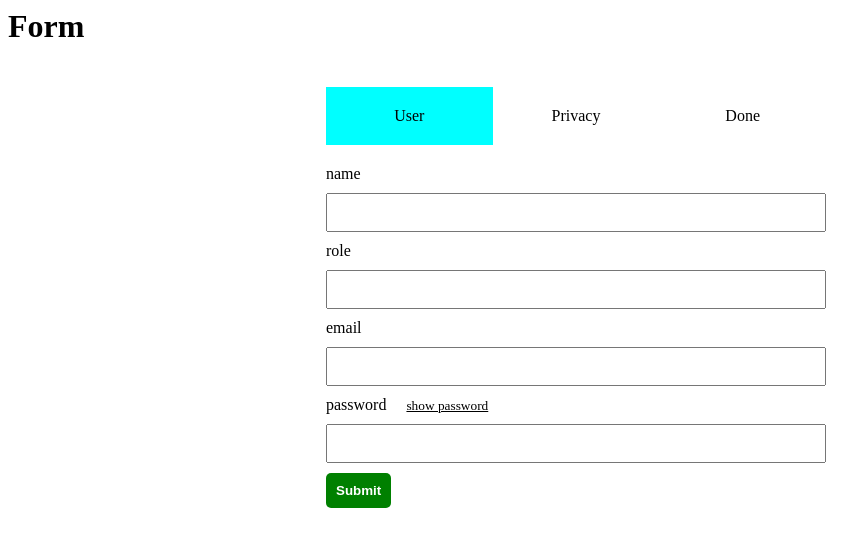
Scenario: TrayForm › when a user enters a invalid password › should display an error message for when there is no uppercase character
Type "736dffsssssss" into the password field labelled "password". click: (576, 443)
box: [326,424,826,463]
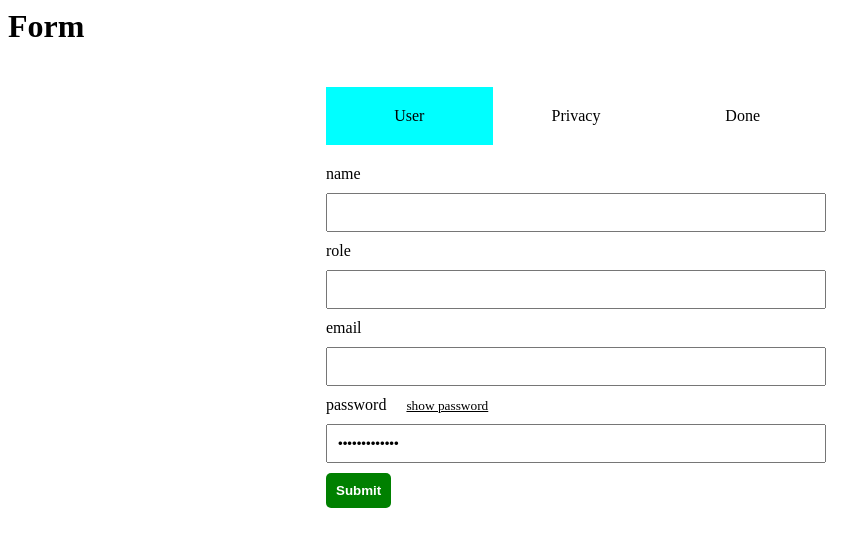
Leave the password field labelled "password", box [326,424,826,463]
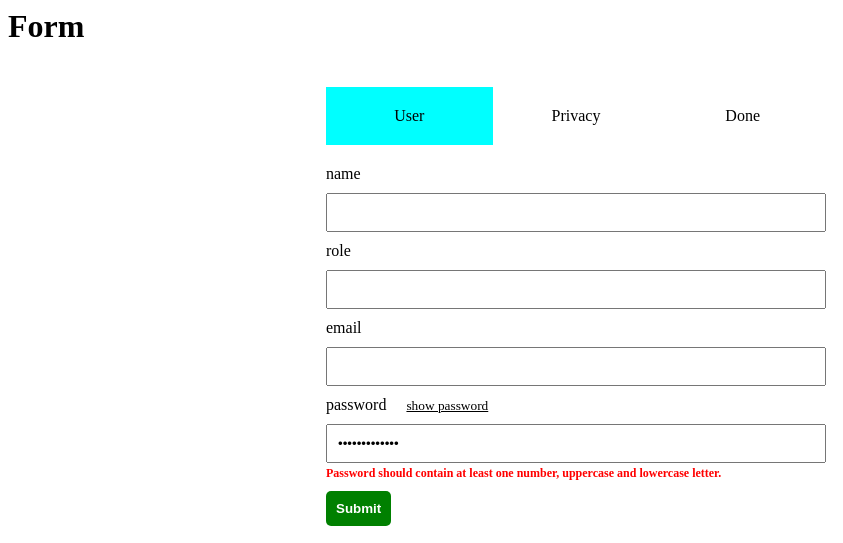
Expected: the text "Password should contain at least one number, uppercase and lowercase letter" is shown, [326,466,721,480]
